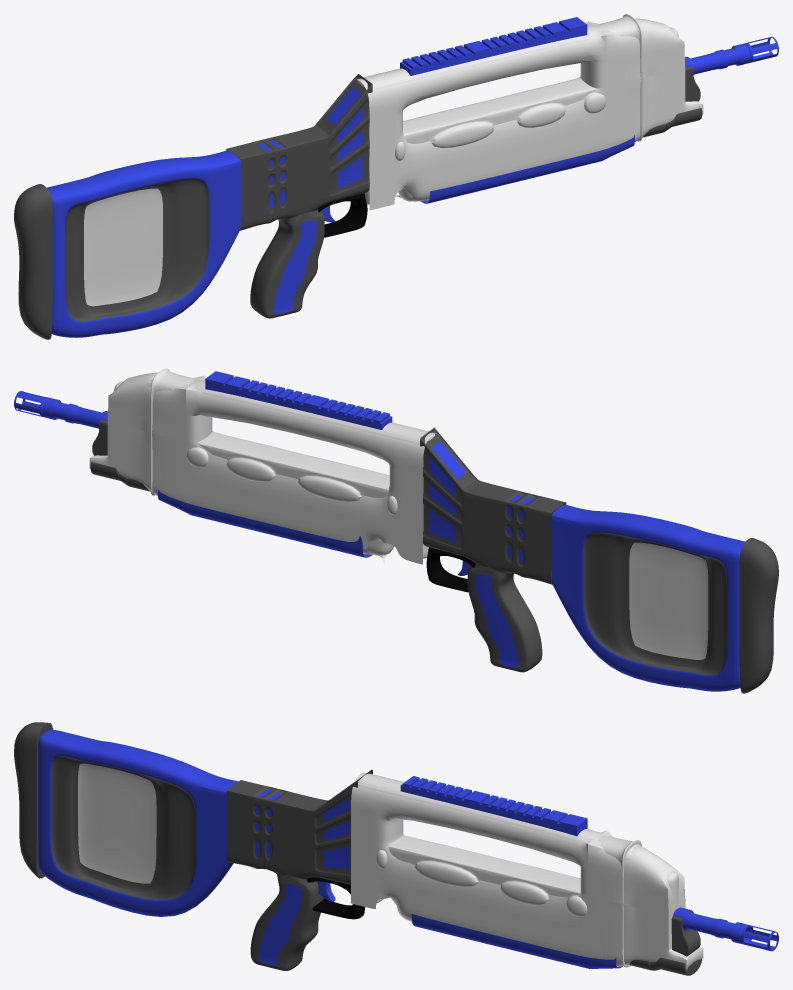
File: Sci-Fi Gun Blue.fbx
The picture shows the model from 3 angles, top to bottom: view 1: azimuth 30°, elevation 25°; view 2: azimuth 150°, elevation 25°; view 3: azimuth 330°, elevation 25°; orthographic projection.
Visible parts, largest first — view 1: Cube.001, Cube, Cube.003, Cube.004, Cube.002, Cube.009, Cube.007, Circle, Cube.006, Circle.001, Cube.005; view 2: Cube.001, Cube, Cube.003, Cube.004, Cube.002, Cube.009, Cube.007, Circle, Cube.006, Circle.001, Cube.005; view 3: Cube.001, Cube, Cube.003, Cube.004, Cube.002, Cube.009, Cube.007, Circle, Cube.005, Cube.006, Circle.001.
Part boxes in pixels (x1,y1,x2,y2): Cube.001: (47,150,240,337); Cube: (353,18,703,210); Cube.003: (226,74,372,318); Cube.004: (357,14,678,204); Cube.002: (14,184,52,339); Cube.009: (421,135,634,203); Cube.007: (481,17,587,56); Circle: (685,36,778,74); Cube.006: (400,41,489,75); Circle.001: (318,193,367,237); Cube.005: (642,65,702,137); Cube.001: (551,504,744,691); Cube: (89,372,438,564); Cube.003: (420,427,566,672); Cube.004: (114,368,434,558); Cube.002: (739,538,778,693); Cube.009: (158,489,372,557); Cube.007: (205,371,311,410); Circle: (14,391,107,429); Cube.006: (303,395,392,429); Circle.001: (426,547,475,592); Cube.005: (90,420,150,491); Cube.001: (38,729,238,916); Cube: (351,772,703,970); Cube.003: (226,769,372,970); Cube.004: (358,773,678,967); Cube.002: (14,722,52,878); Cube.009: (411,914,622,968); Cube.007: (479,795,587,836); Circle: (673,907,778,951); Cube.005: (629,915,702,975); Cube.006: (400,776,489,810); Circle.001: (307,877,365,919).
Bounding box in the file's own units: 418 × 114 × 21.18.
